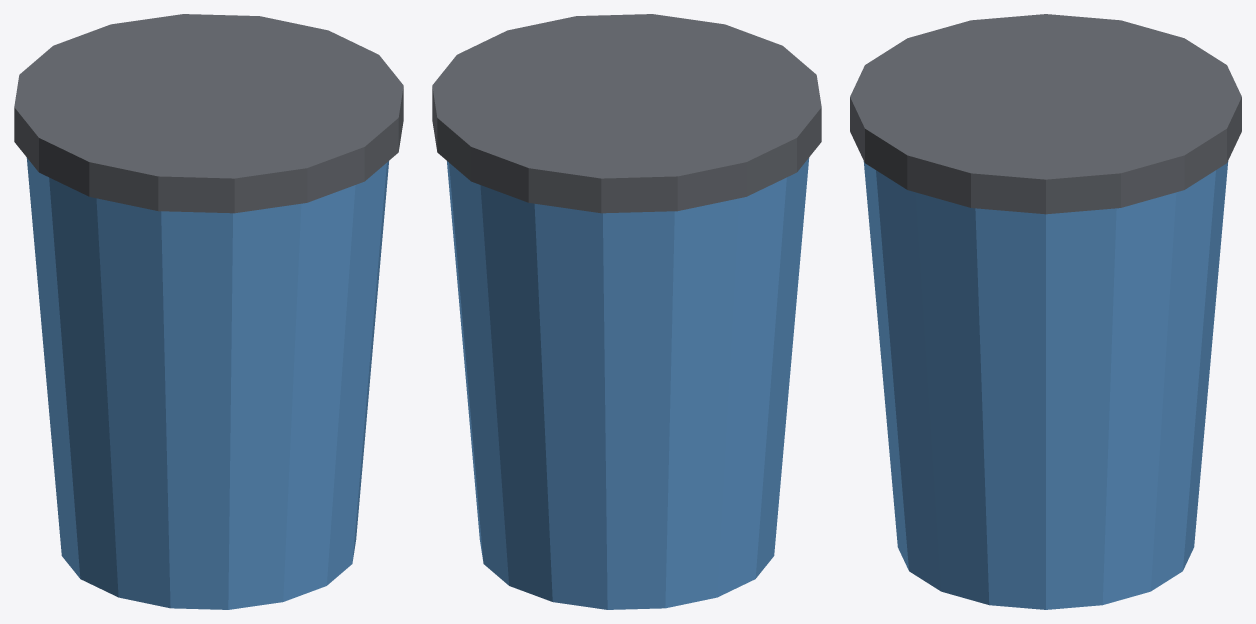
The model's file is Prop_Dustbin_Blue.glb.
The picture shows the model from 3 angles, left to right: view 1: azimuth 30°, elevation 25°; view 2: azimuth 150°, elevation 25°; view 3: azimuth 270°, elevation 25°; orthographic projection.
Visible parts, largest first — view 1: Body, Rim; view 2: Body, Rim; view 3: Body, Rim.
Boxes of the visible parts, x1,y1,x2,y2 form: Body: (26, 157, 388, 609); Rim: (14, 14, 403, 213); Body: (447, 157, 809, 609); Rim: (432, 14, 821, 213); Body: (863, 161, 1228, 609); Rim: (850, 14, 1241, 214).
Size of the model in its own units: 0.41 by 0.52 by 0.41.
